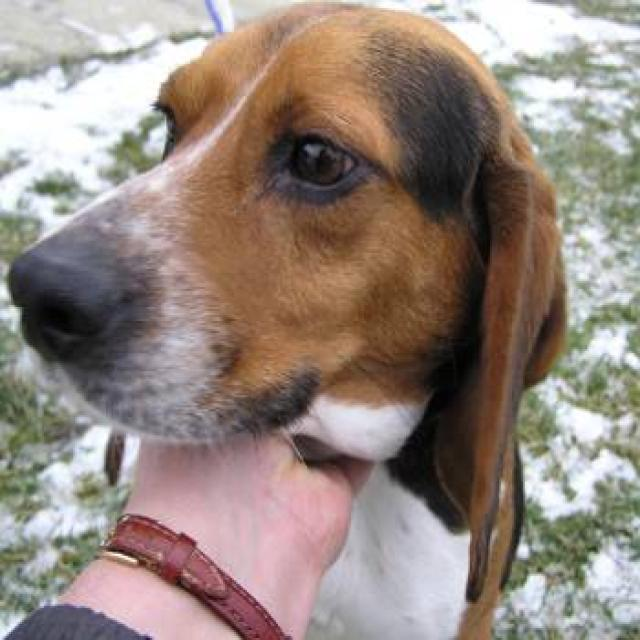dog: (4, 0, 568, 638)
